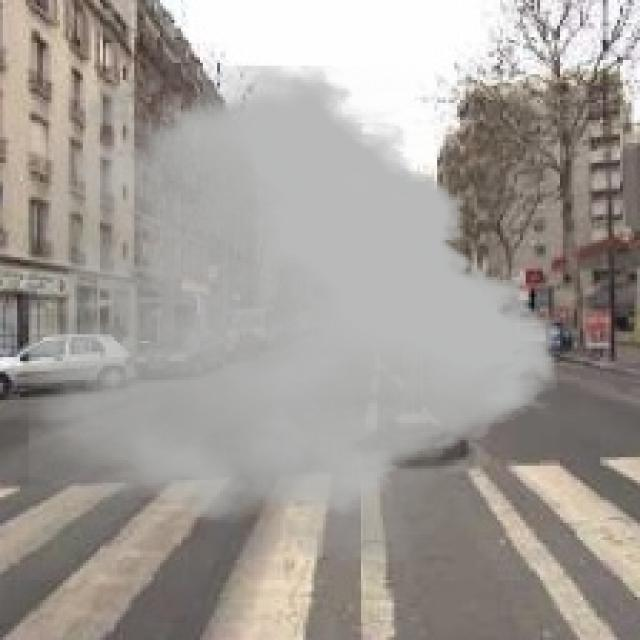smoke: (29, 57, 557, 580)
